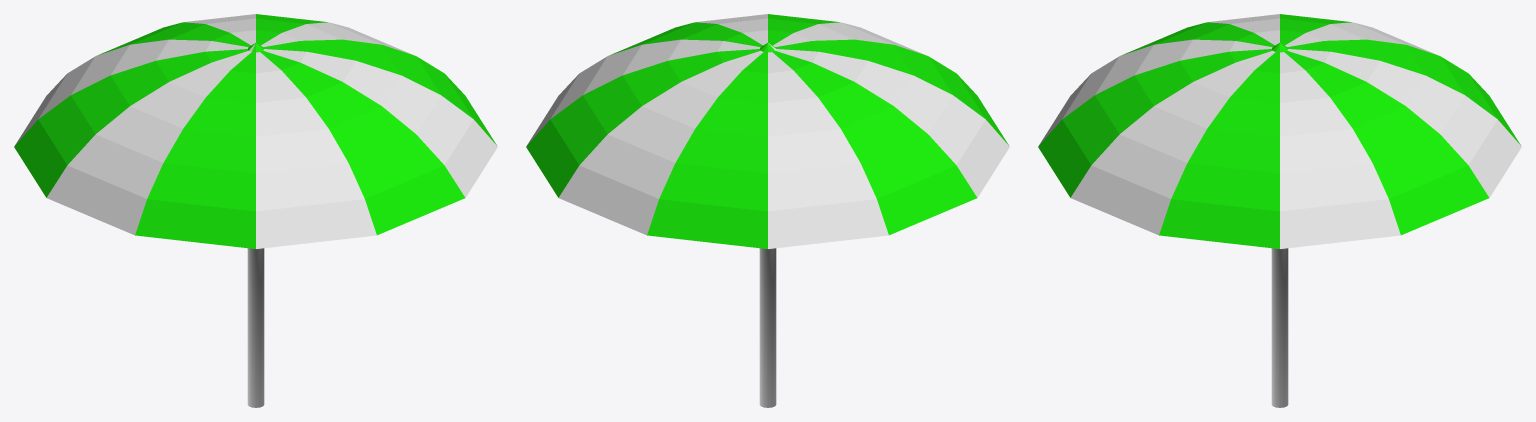
The model's file is Sombrilla1.fbx.
The picture shows the model from 3 angles, left to right: view 1: azimuth 30°, elevation 25°; view 2: azimuth 150°, elevation 25°; view 3: azimuth 270°, elevation 25°; orthographic projection.
Visible parts, largest first — view 1: Sombrilla.004, Palo.004; view 2: Sombrilla.004, Palo.004; view 3: Sombrilla.004, Palo.004.
Part boxes in pixels (<box>): Sombrilla.004: <box>14,14,497,248</box>; Palo.004: <box>247,248,264,407</box>; Sombrilla.004: <box>526,14,1009,248</box>; Palo.004: <box>759,248,776,407</box>; Sombrilla.004: <box>1038,14,1521,248</box>; Palo.004: <box>1271,248,1288,407</box>.
Bounding box in the file's own units: 276 × 227 × 276.
